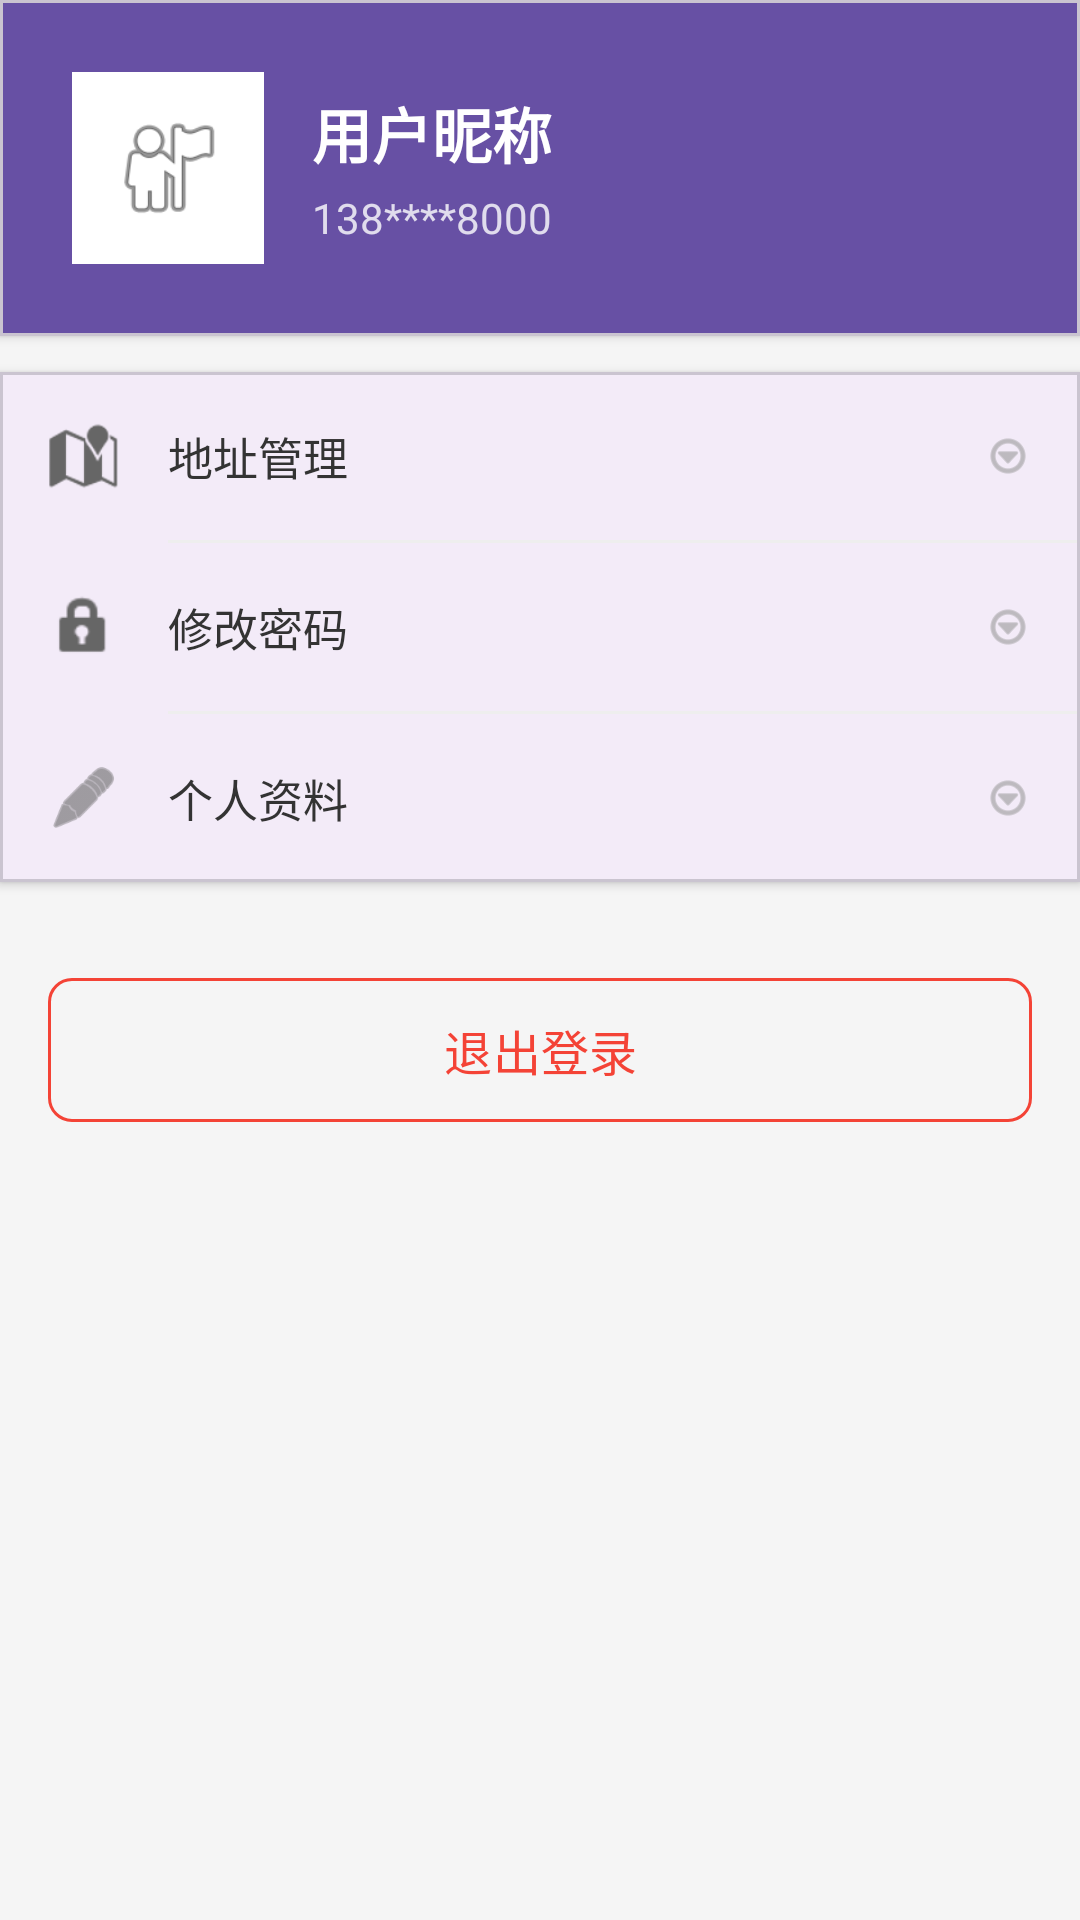

Icons on this 1080x1920 Android screen, each with the point to tap as (x,y):
更多: (1008,456), (1008,627), (1008,798)
